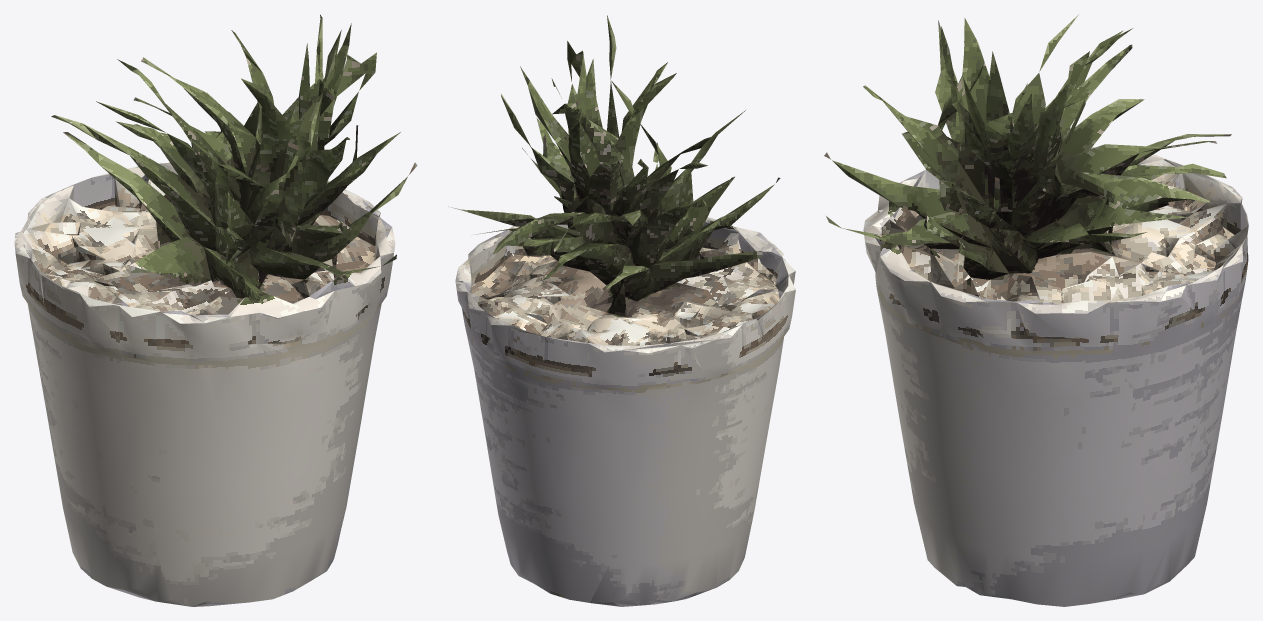
Rendered from cactus.glb.
The picture shows the model from 3 angles, left to right: view 1: azimuth 30°, elevation 25°; view 2: azimuth 150°, elevation 25°; view 3: azimuth 270°, elevation 25°; orthographic projection. The views are drawn at different scales.
Visible parts, largest first — view 1: mesh_q; view 2: mesh_q; view 3: mesh_q.
Part boxes in pixels (bbox=[...]): mesh_q: bbox=[14, 14, 417, 606]; mesh_q: bbox=[448, 15, 795, 606]; mesh_q: bbox=[824, 14, 1248, 606].
Bounding box in the file's own units: 0.5362 × 0.875 × 0.5909.
Materials: 1 (1 with a texture image).
